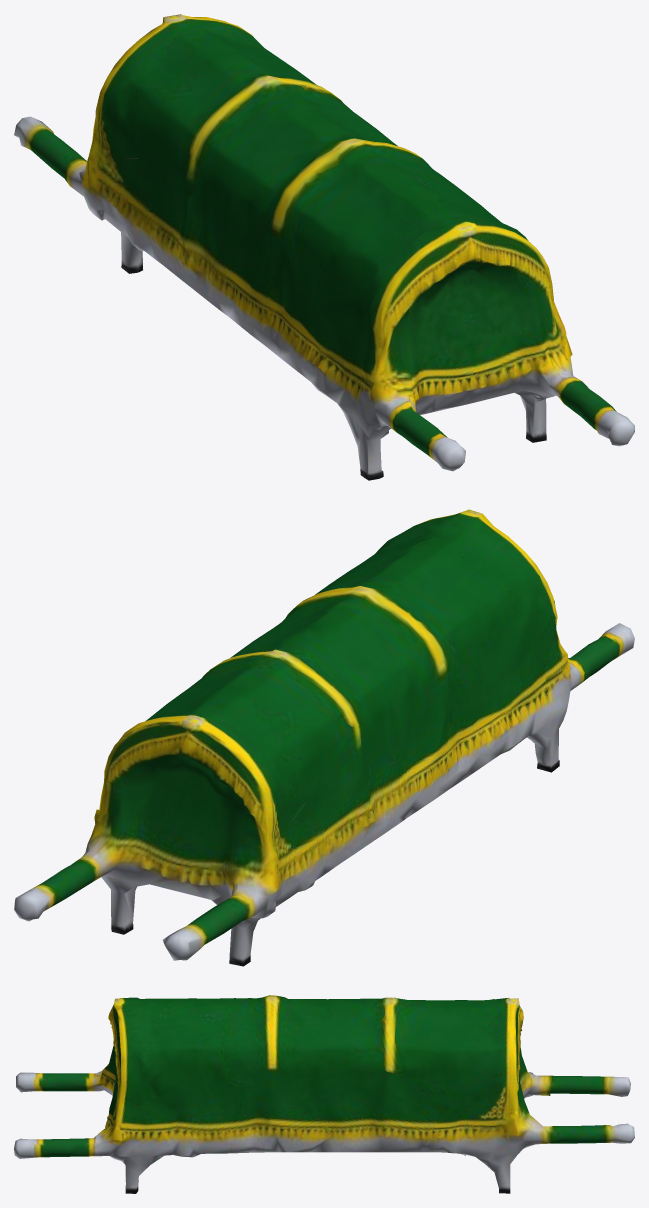
Rendered from rawa-keranda.glb.
3 views of the same model, one above another, from view 1: azimuth 30°, elevation 25°; view 2: azimuth 150°, elevation 25°; view 3: azimuth 270°, elevation 25° (orthographic). The views are drawn at different scales.
Parts seen in each view (by area): view 1: tripo_node_53a64bd4-dac5-4cd4-9609-7028a3f826ee; view 2: tripo_node_53a64bd4-dac5-4cd4-9609-7028a3f826ee; view 3: tripo_node_53a64bd4-dac5-4cd4-9609-7028a3f826ee.
Boxes of the visible parts, left/top/right/bottom form: tripo_node_53a64bd4-dac5-4cd4-9609-7028a3f826ee: left=14, top=14, right=634, bottom=480; tripo_node_53a64bd4-dac5-4cd4-9609-7028a3f826ee: left=14, top=509, right=634, bottom=966; tripo_node_53a64bd4-dac5-4cd4-9609-7028a3f826ee: left=14, top=995, right=634, bottom=1193.
Size of the model in its own units: 0.2588 by 0.2983 by 1.
Materials: 1 (1 with a texture image).
